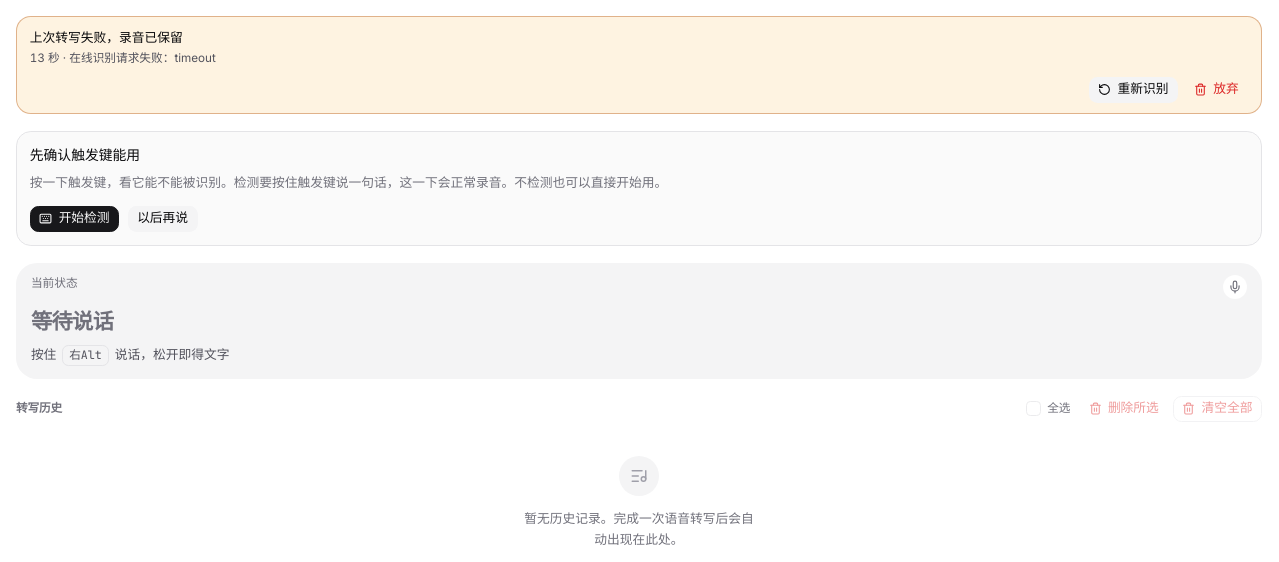
Test: Home 触发键自检卡 › 首次进主页展开自检卡，跳过之后只留入口按钮
The image size is (1279, 562).
Expected: the text "先确认触发键能用" is shown, [30,145,140,166]
Click the button "以后再说" at (163, 219), box [128,206,198,232]
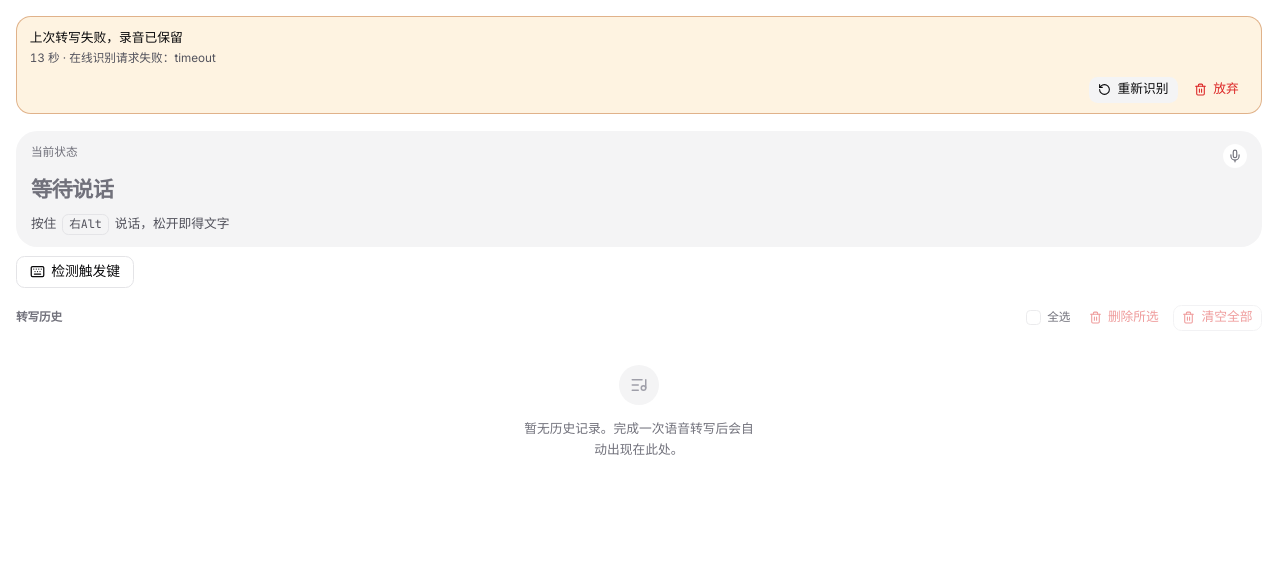
Expected: the text "先确认触发键能用" is gone
Expected: the button "检测触发键" is shown, [16,256,134,288]
